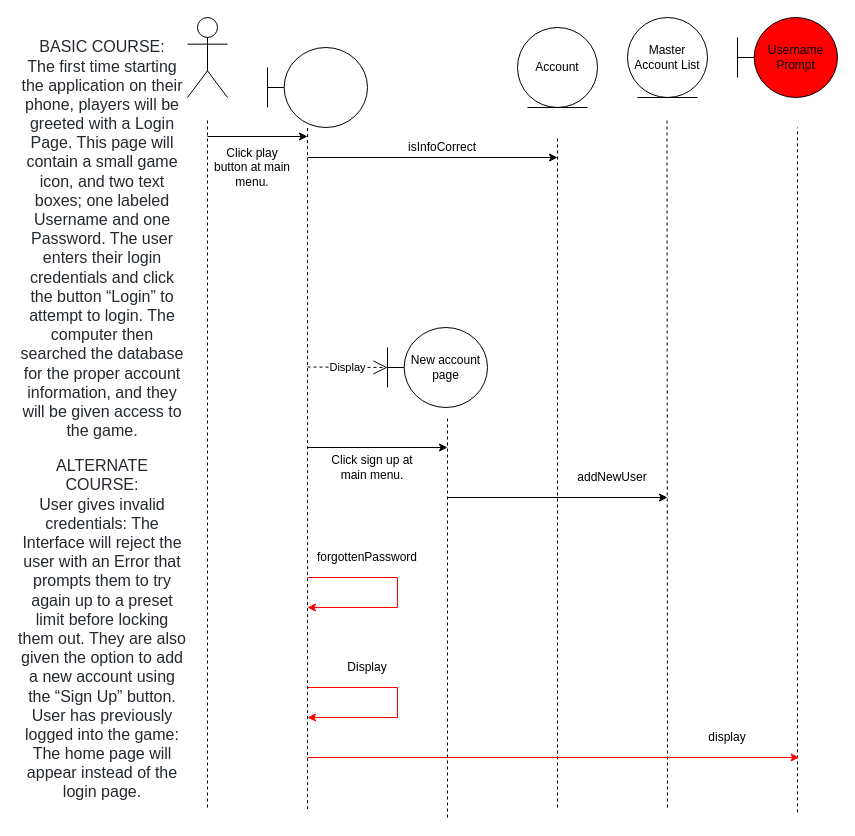
Some shapes in this 855 by 836 pixel diagram are drawn without their labels. Each missing label, with the box of its shape:
Login Page: (266, 46, 368, 128)
User: (186, 16, 228, 98)
